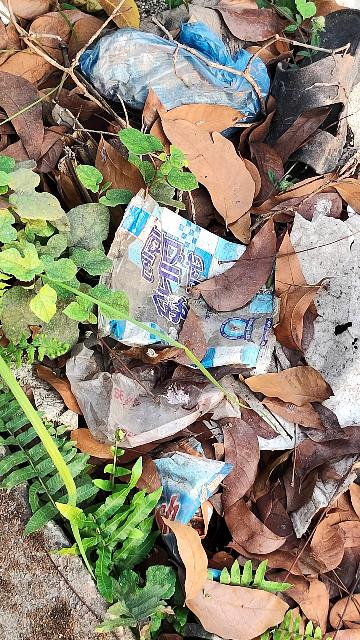packet: (101, 188, 282, 378)
